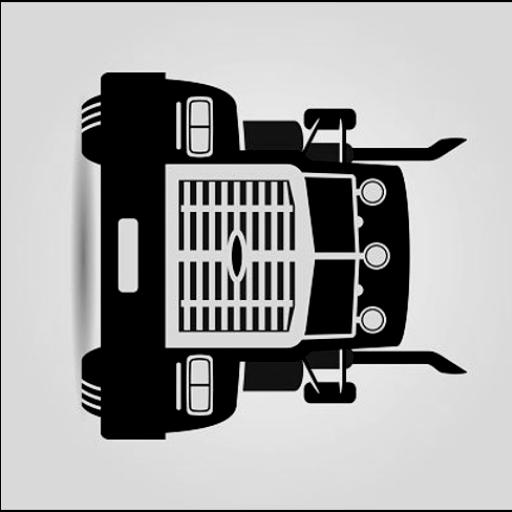truck: (78, 63, 468, 447)
